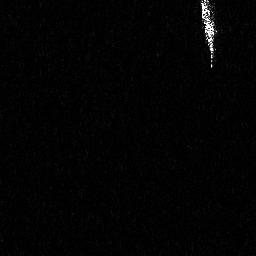ship: (198, 1, 220, 69)
